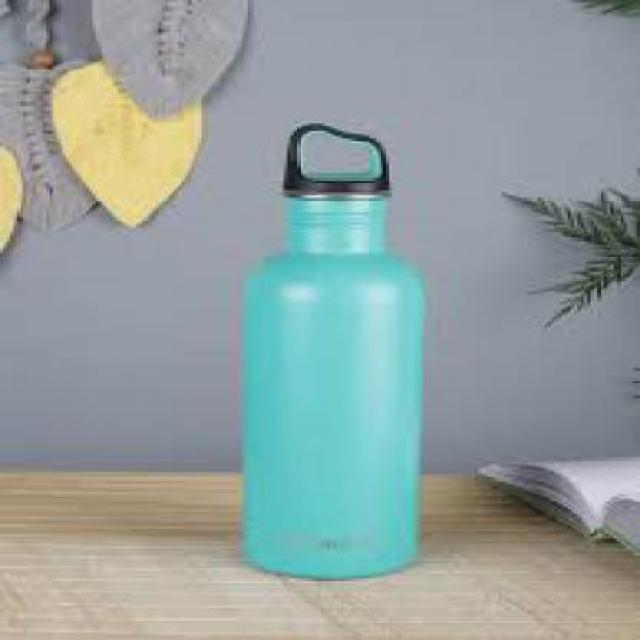Drinking: (228, 114, 435, 586)
